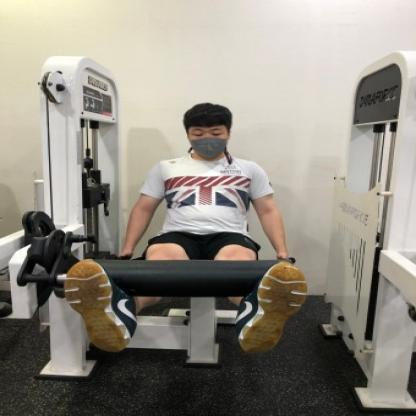leg extension: (5, 41, 329, 416)
